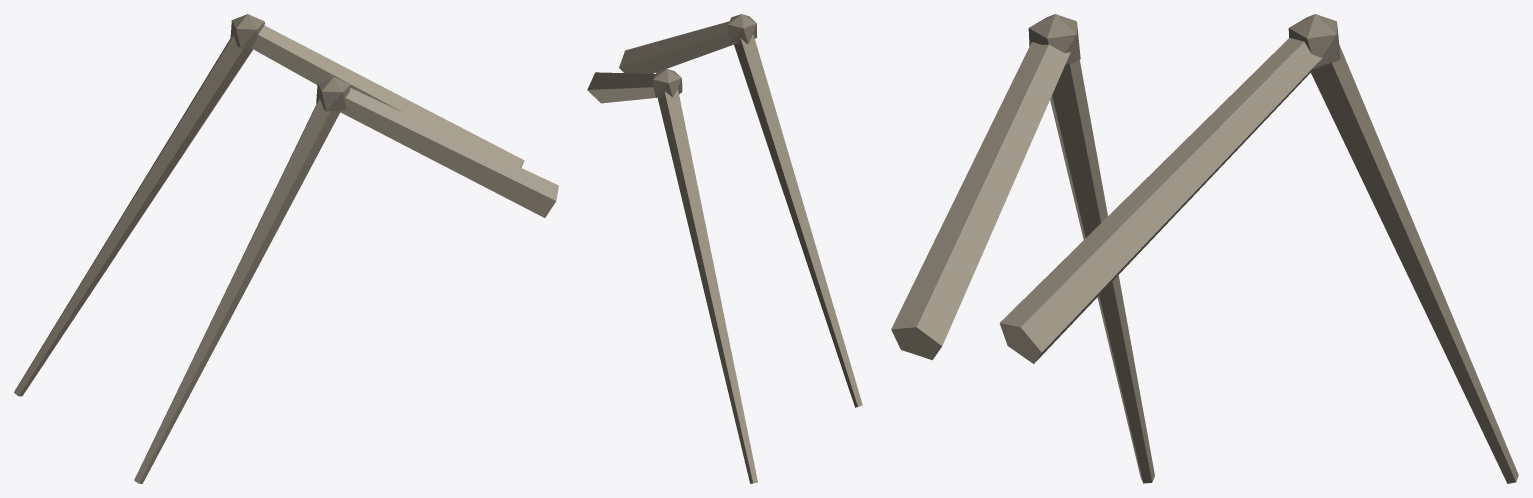
The model's file is spider_2_leg_br.glb.
The picture shows the model from 3 angles, left to right: view 1: azimuth 30°, elevation 25°; view 2: azimuth 150°, elevation 25°; view 3: azimuth 270°, elevation 25°; orthographic projection. The views are drawn at different scales.
Visible parts, largest first — view 1: spider_2_leg_br; view 2: spider_2_leg_br; view 3: spider_2_leg_br.
Part boxes in pixels (x1,y1,x2,y2): spider_2_leg_br: [14, 14, 558, 483]; spider_2_leg_br: [587, 14, 862, 483]; spider_2_leg_br: [891, 14, 1518, 483].
Size of the model in its own units: 0.6376 by 0.6759 by 0.6519.
